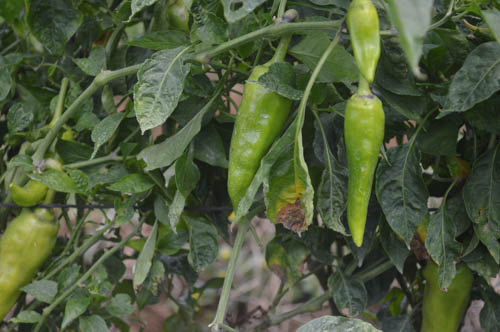ChiliPepper: (227, 69, 290, 208), (344, 100, 384, 247), (1, 217, 60, 315), (420, 263, 476, 330), (349, 5, 383, 79), (8, 170, 50, 207)
